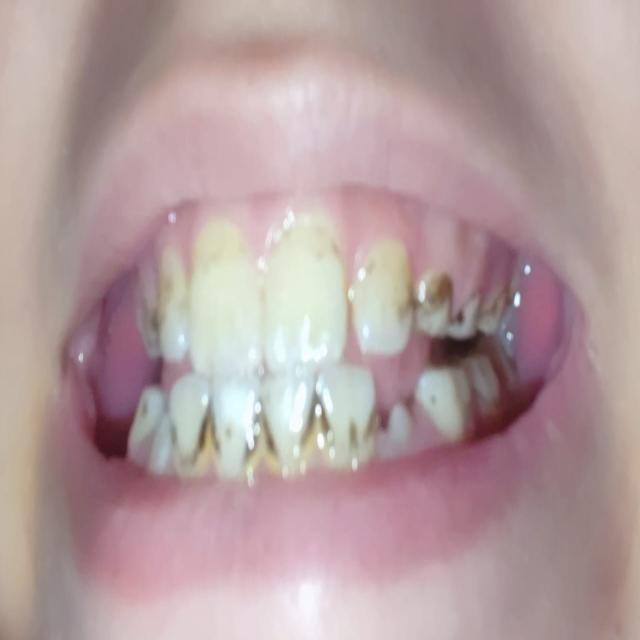tooth: (262, 233, 350, 367), (191, 228, 267, 372), (350, 244, 410, 350), (313, 366, 377, 456), (210, 379, 260, 478), (269, 380, 315, 462), (175, 379, 209, 466)
